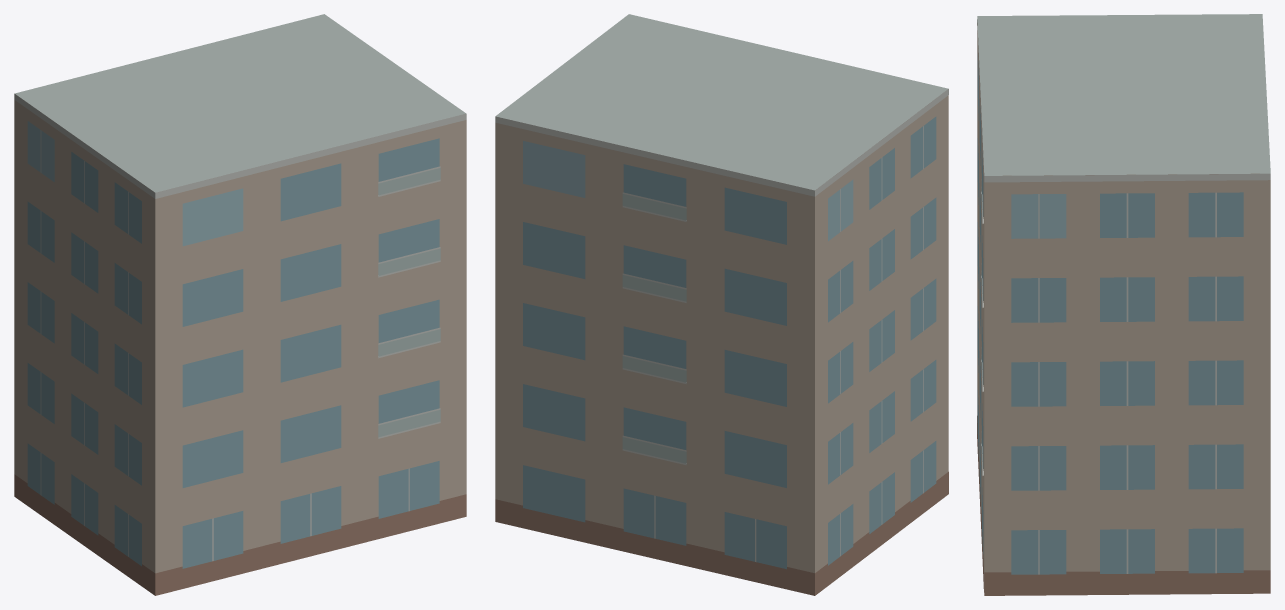
File: survey-upis-32832475.glb
3 views of the same model, side by side, from view 1: azimuth 30°, elevation 25°; view 2: azimuth 150°, elevation 25°; view 3: azimuth 270°, elevation 25° (orthographic). The views are drawn at different scales.
Visible parts, largest first — view 1: survey-upis-32832475.tmp; view 2: survey-upis-32832475.tmp; view 3: survey-upis-32832475.tmp.
Boxes of the visible parts, left/top/right/bottom form: survey-upis-32832475.tmp: left=14, top=14, right=466, bottom=595; survey-upis-32832475.tmp: left=495, top=14, right=948, bottom=595; survey-upis-32832475.tmp: left=977, top=14, right=1270, bottom=595.
Bounding box in the file's own units: 13.03 × 15.75 × 9.99.
